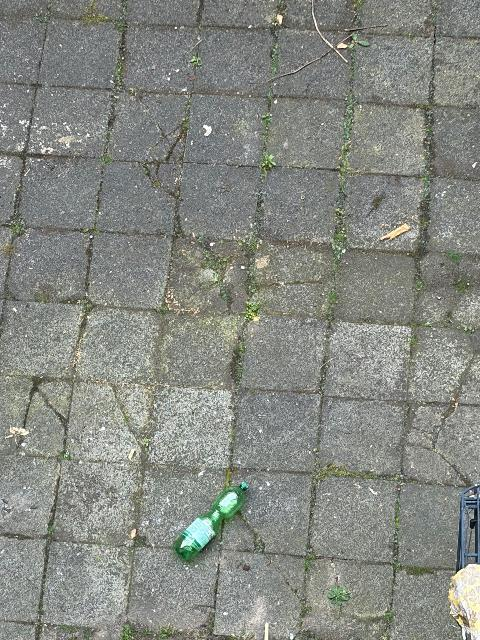plastic_bottle: (175, 482, 250, 558)
